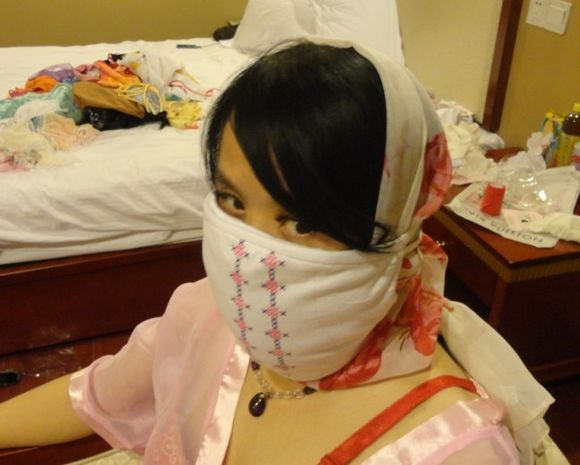face_mask: (214, 128, 362, 335)
